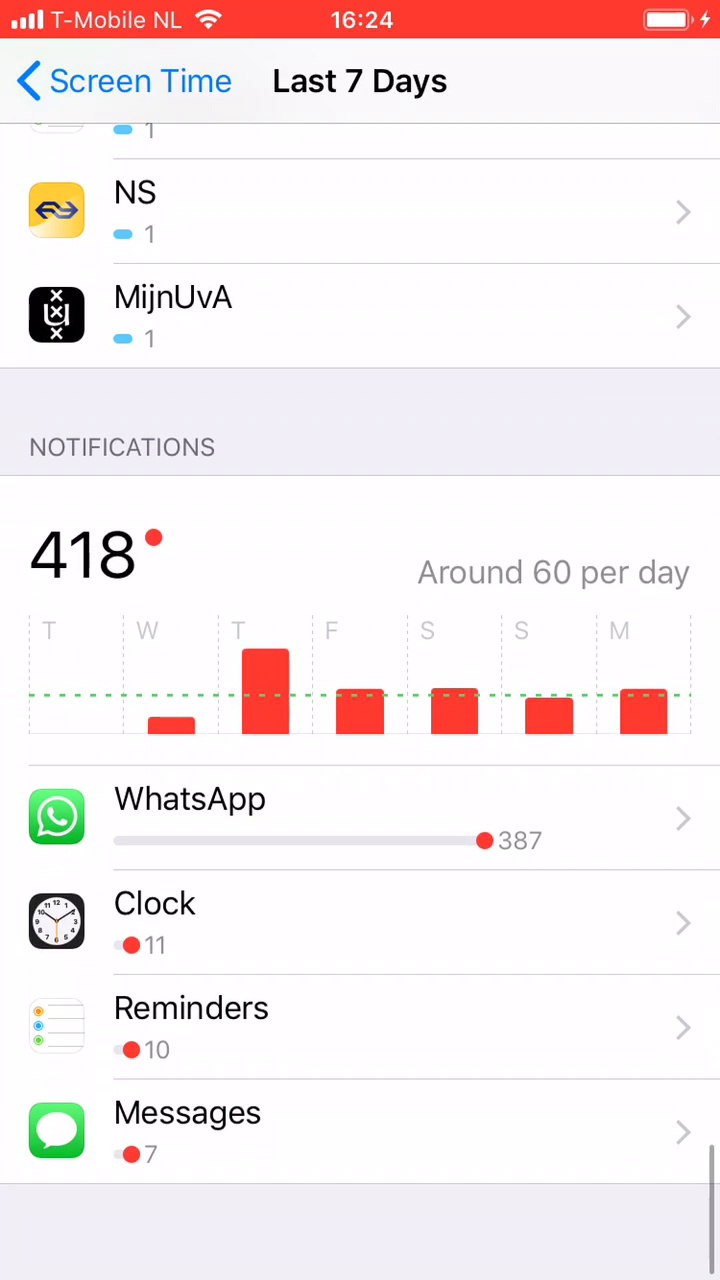not_app: (21, 767, 587, 867), (18, 982, 307, 1077), (20, 1081, 303, 1178), (17, 874, 254, 975)
not_over: (15, 407, 256, 600)
pick_app: (14, 153, 284, 264), (15, 264, 306, 366)
week: (262, 54, 460, 105)
